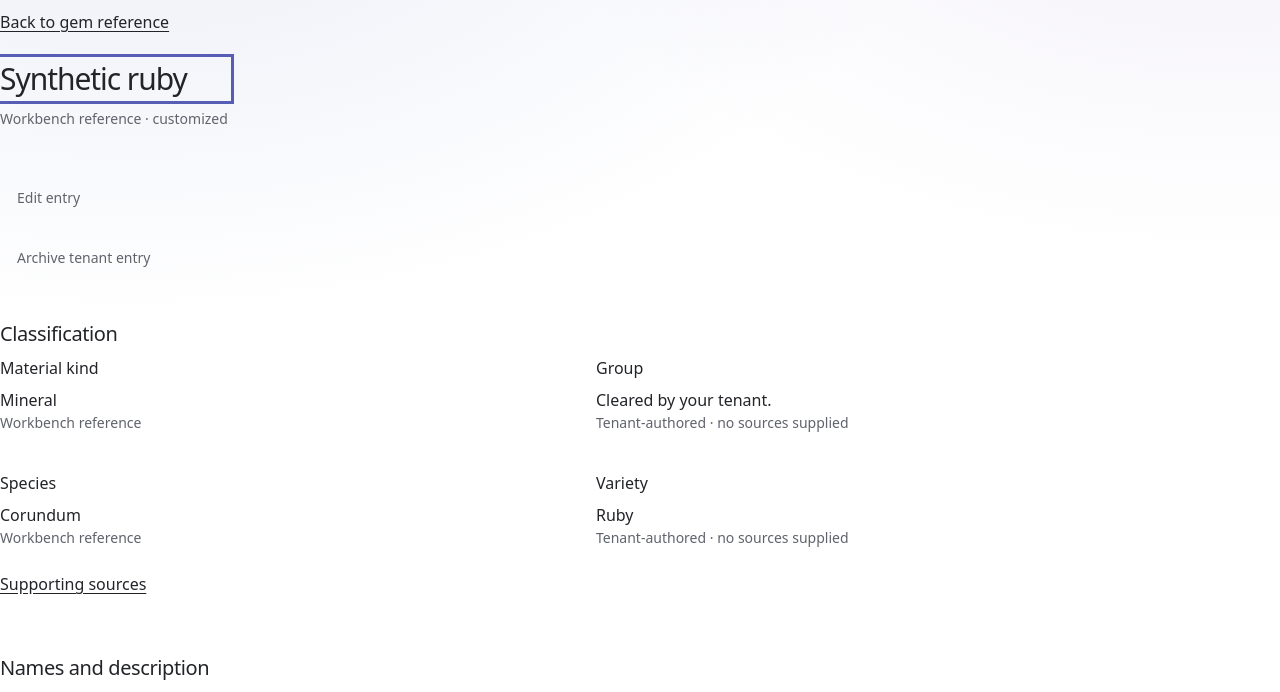
Test case: requires another confirmation after a stale archive and retains detail on a failed check
What coordinates should you click on to do the following:
click the button "Archive tenant entry"
I would click on:
 (84, 258)
Its box is x1=0 y1=236 x2=167 y2=280.
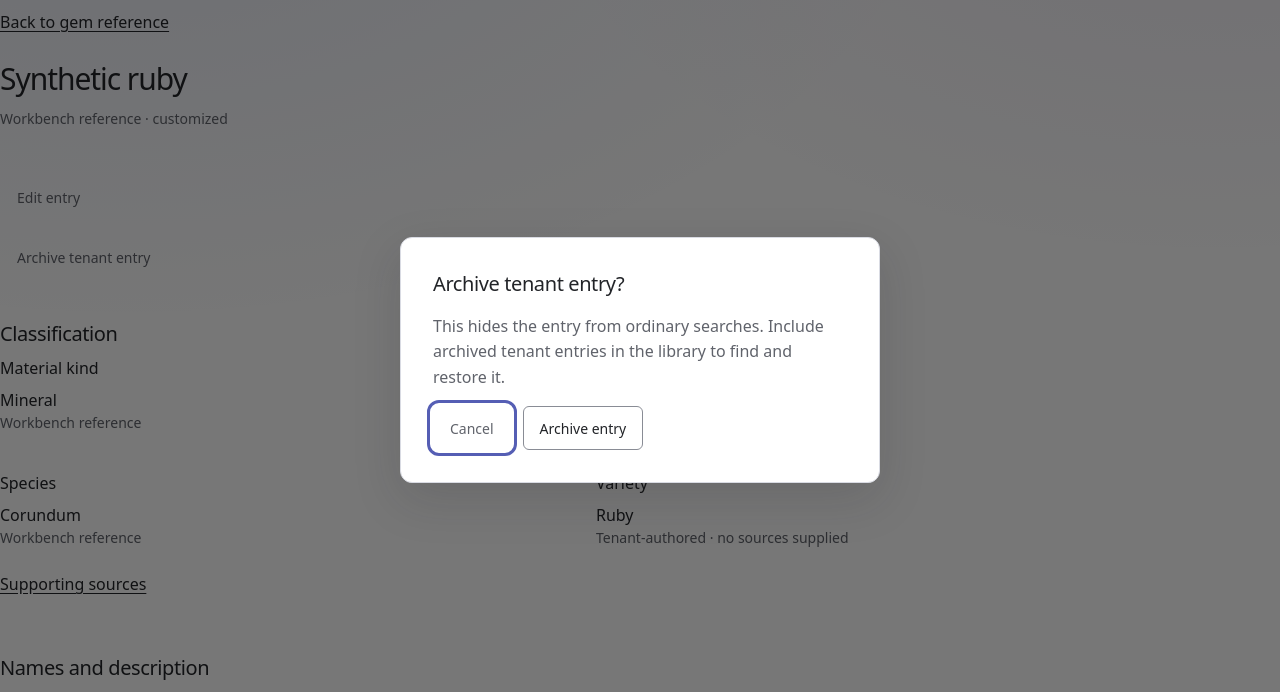
What coordinates should you click on to do the following:
click the button "Archive entry"
I would click on:
 (583, 428)
Its box is x1=523 y1=406 x2=643 y2=450.
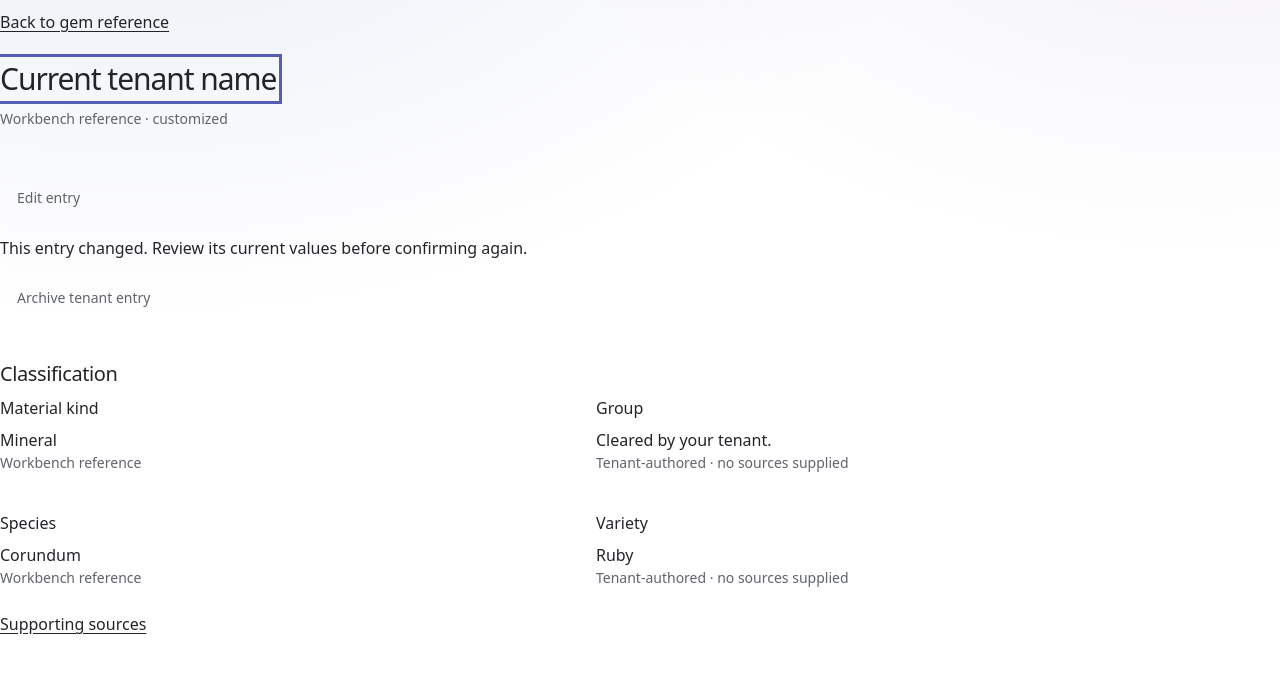
Now the heading "Current tenant name" is shown, box x1=0 y1=60 x2=276 y2=98
Now the message shows "changed", box x1=0 y1=237 x2=527 y2=259
